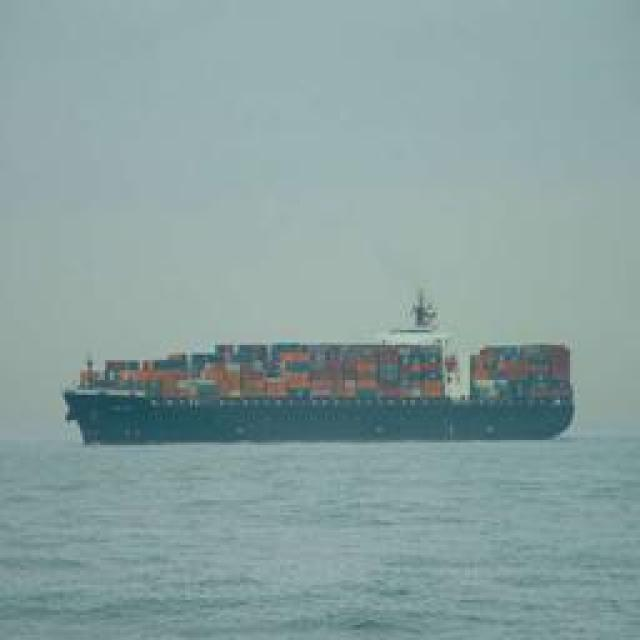ship2: (64, 280, 577, 447)
